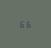six: (25, 19, 30, 28), (19, 19, 24, 27)
